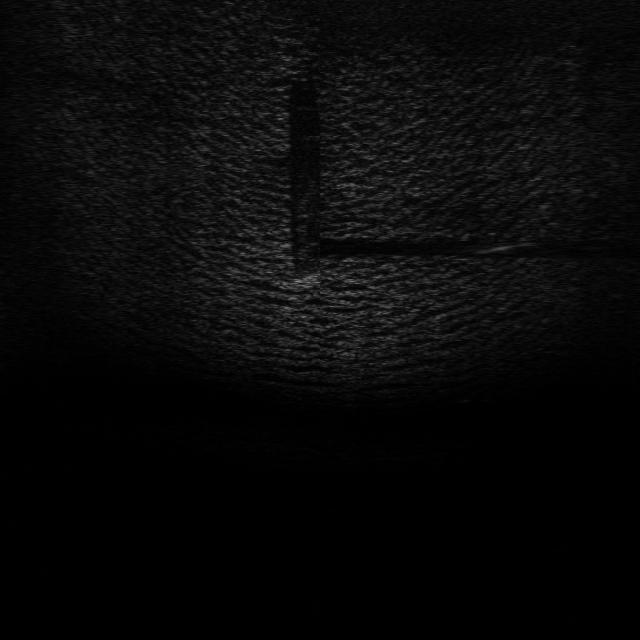cube: (292, 270, 323, 294)
